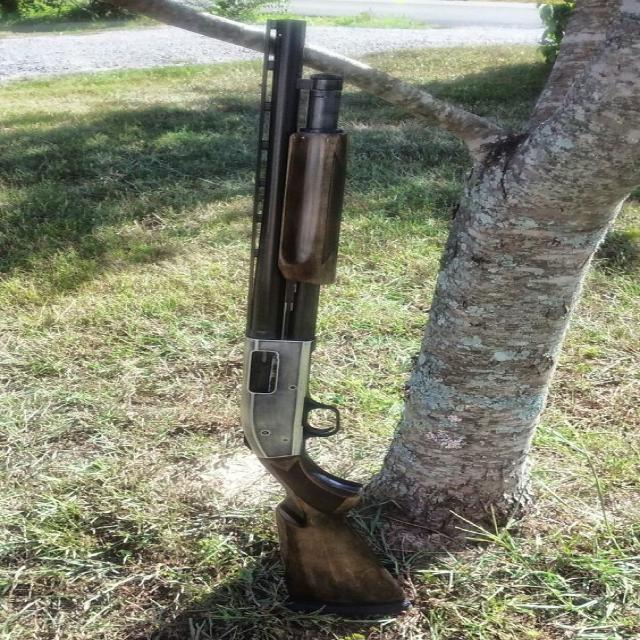shotgun: (165, 11, 477, 640)
